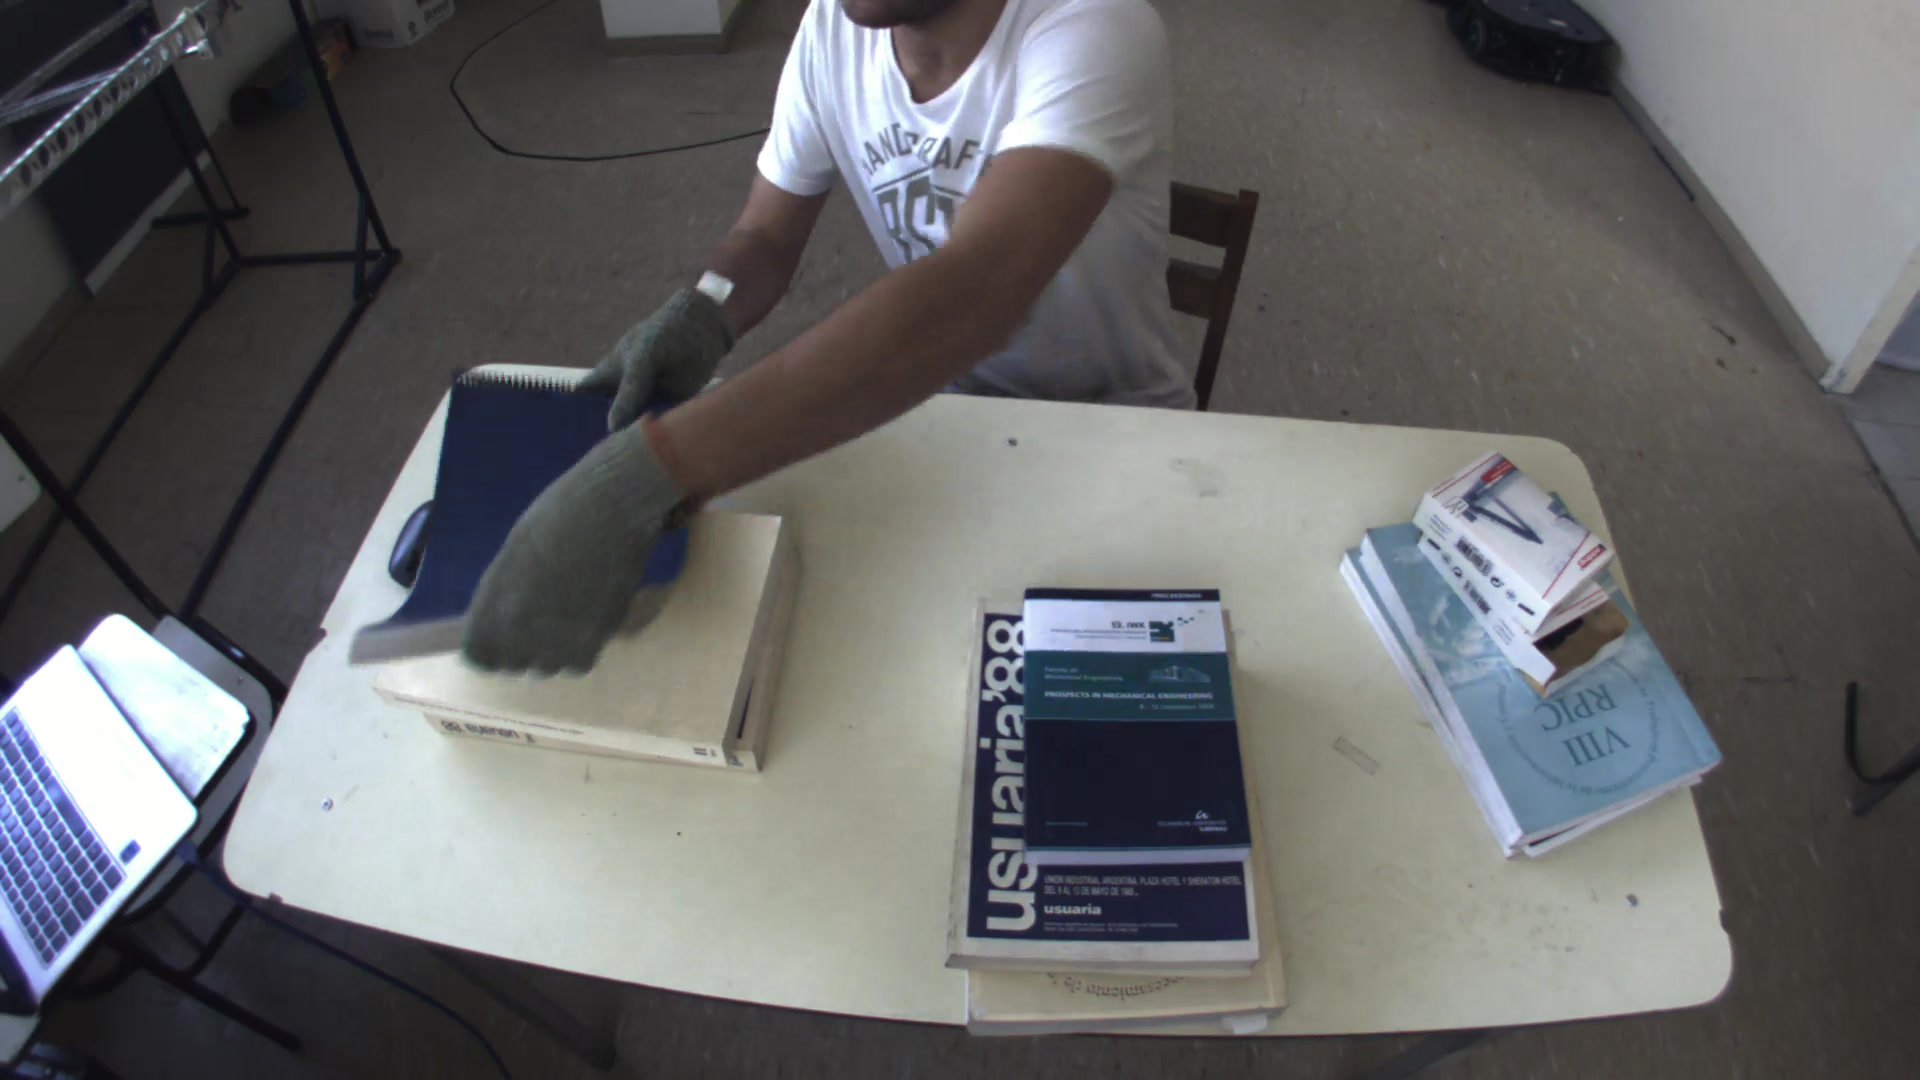hand: (444, 426, 676, 683), (571, 277, 731, 430)
